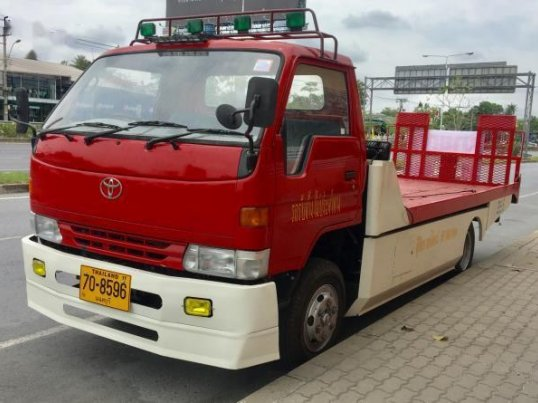truck: (24, 31, 362, 376)
